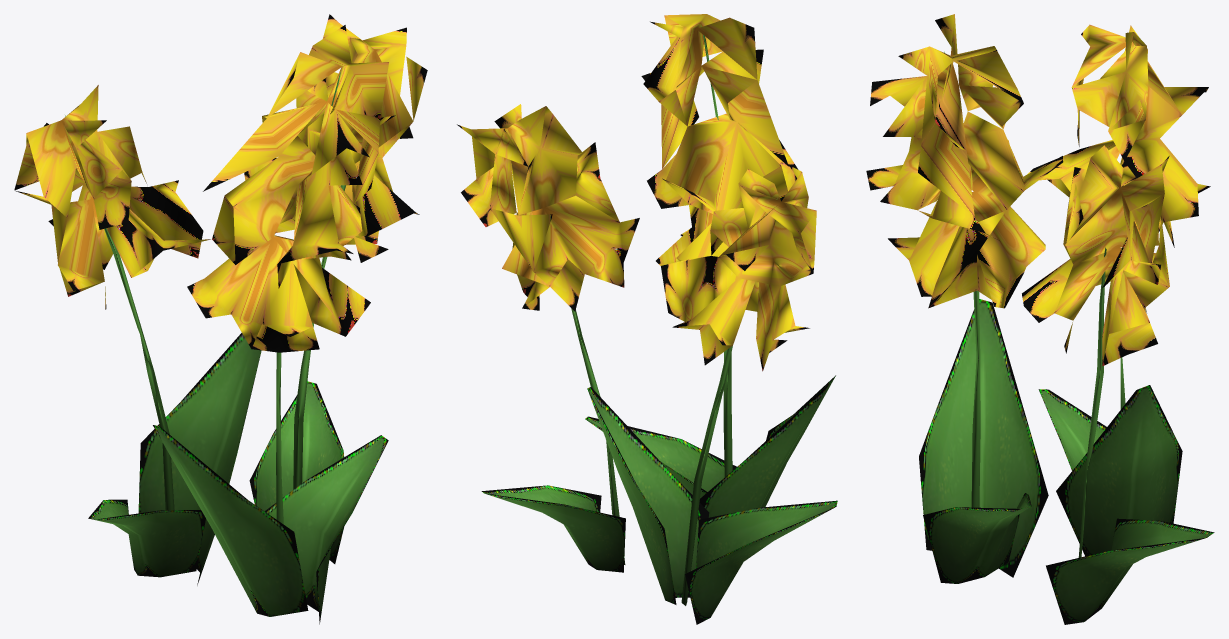
File: Flower_4_Group.gltf
The picture shows the model from 3 angles, left to right: view 1: azimuth 30°, elevation 25°; view 2: azimuth 150°, elevation 25°; view 3: azimuth 270°, elevation 25°; orthographic projection. The views are drawn at different scales.
Parts seen in each view (by area): view 1: Flower_4_Group; view 2: Flower_4_Group; view 3: Flower_4_Group.
Boxes of the visible parts, x1,y1,x2,y2 form: Flower_4_Group: [14, 14, 427, 624]; Flower_4_Group: [457, 14, 837, 624]; Flower_4_Group: [866, 14, 1214, 624].
Size of the model in its own units: 1.73 by 2.43 by 1.35.
Materials: 2 (2 with a texture image).
